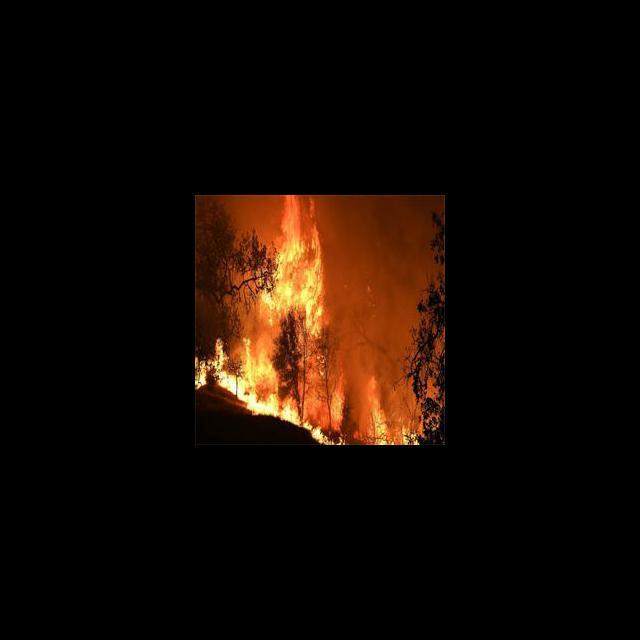Fire: (196, 335, 429, 444), (254, 195, 325, 334)
